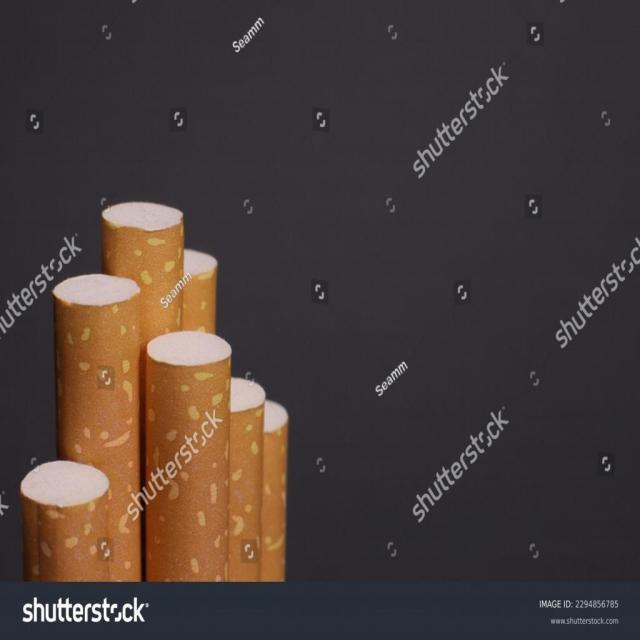smoking: (18, 200, 293, 588)
